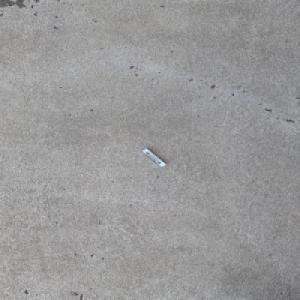ClampPart: (139, 147, 167, 167)
